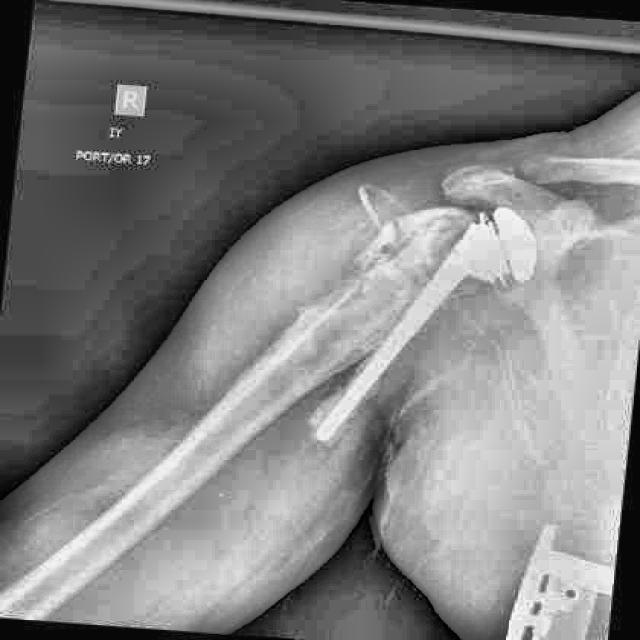shoulder fracture: (259, 228, 421, 340), (493, 142, 560, 203)
